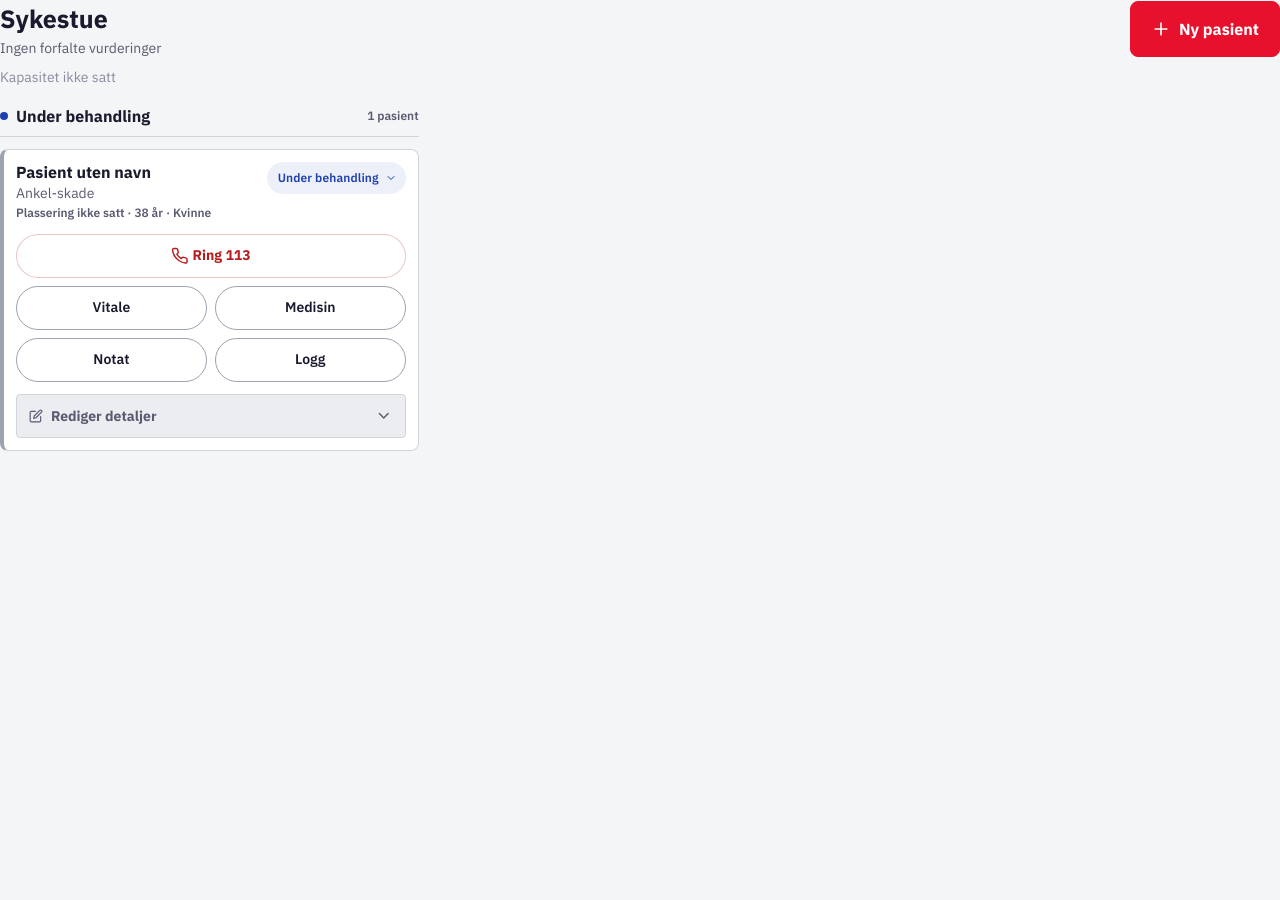
Test: AMK brief modal — structured 113 flow › shows a visible error line when marking AMK notified fails, without hiding that the log itself saved
Expected: the element with test id "patient-section-in_treatment" is shown, x1=0 y1=104 x2=419 y2=451
Click the button with test id "patient-ring-113" at (211, 256), box x1=16 y1=234 x2=406 y2=278
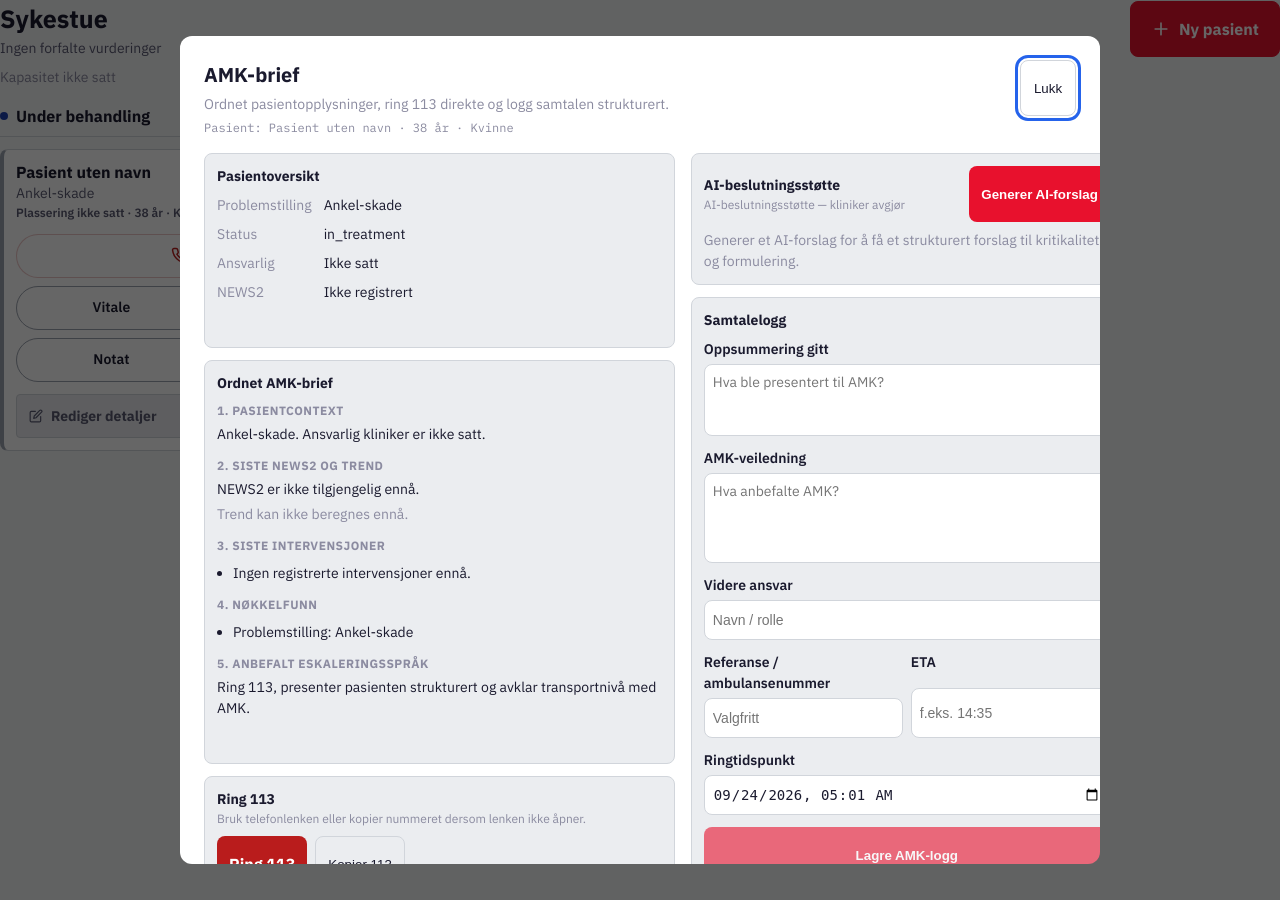
Type "Pasient med brystsmerter" into the text box labelled "Oppsummering gitt" at (907, 400), box x1=704 y1=364 x2=1110 y2=436
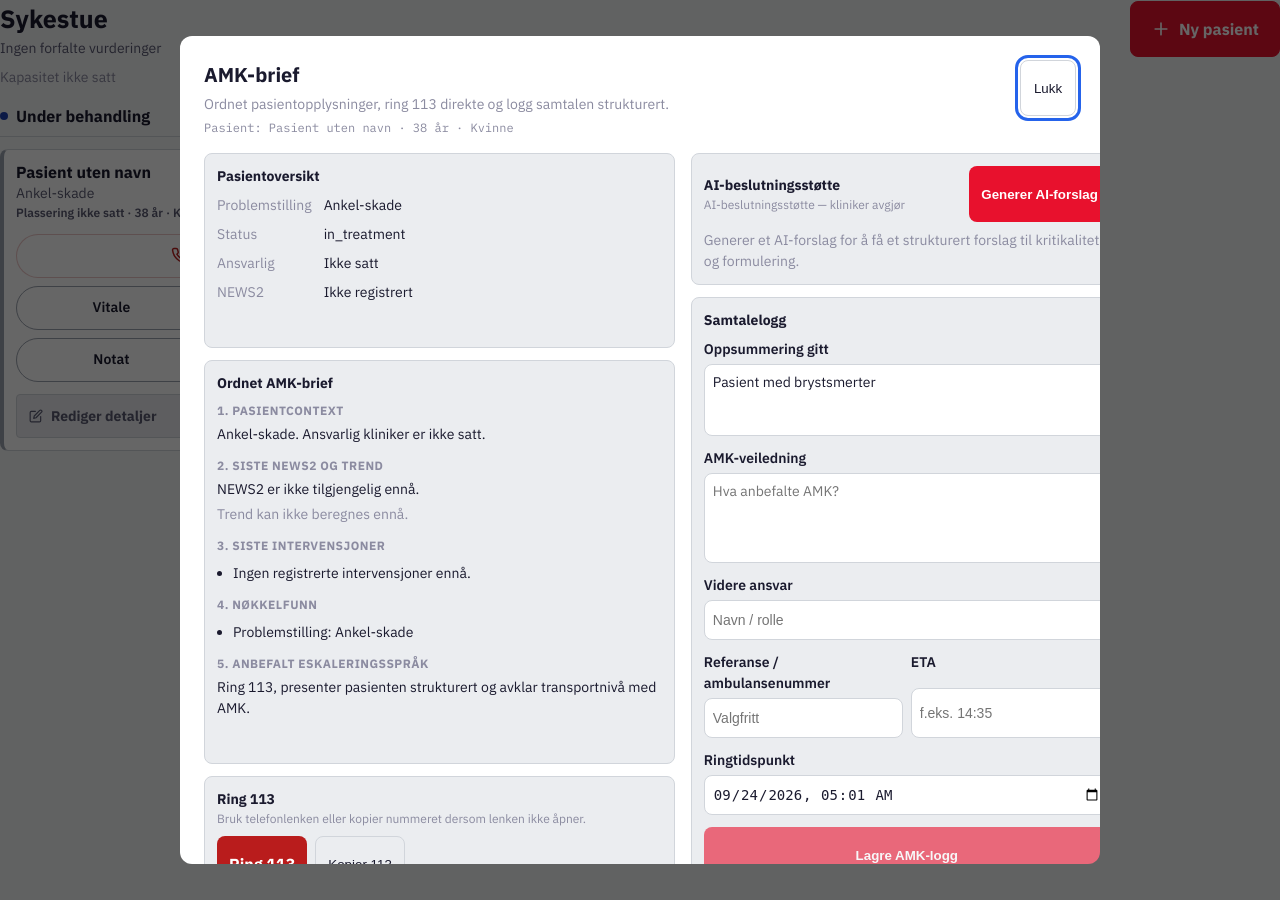
Type "Kontakt AMK" into the text box labelled "AMK-veiledning" at (907, 518), box x1=704 y1=473 x2=1110 y2=563
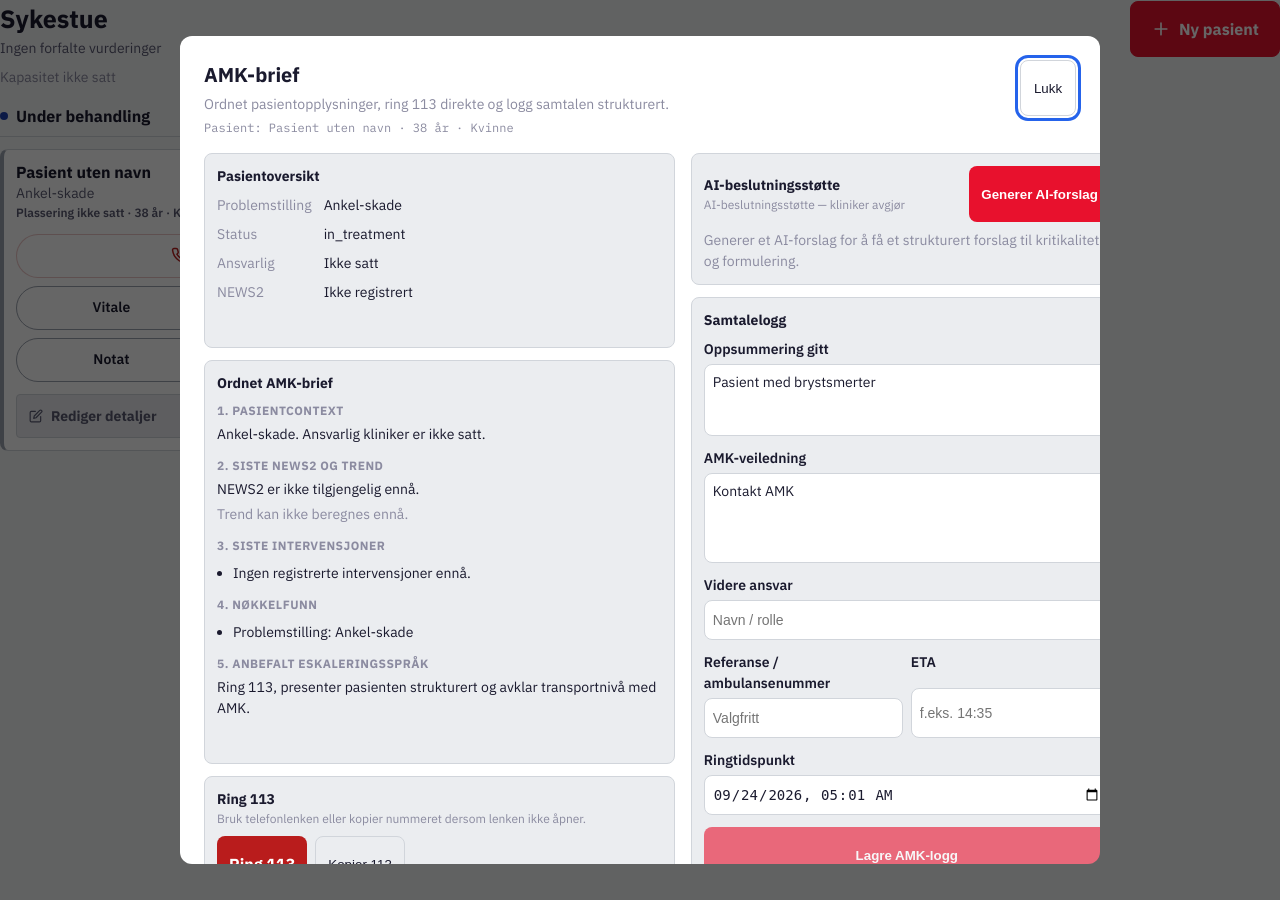
Type "Lege Andersen" into the field labelled "Videre ansvar" at (907, 620), box x1=704 y1=600 x2=1110 y2=640
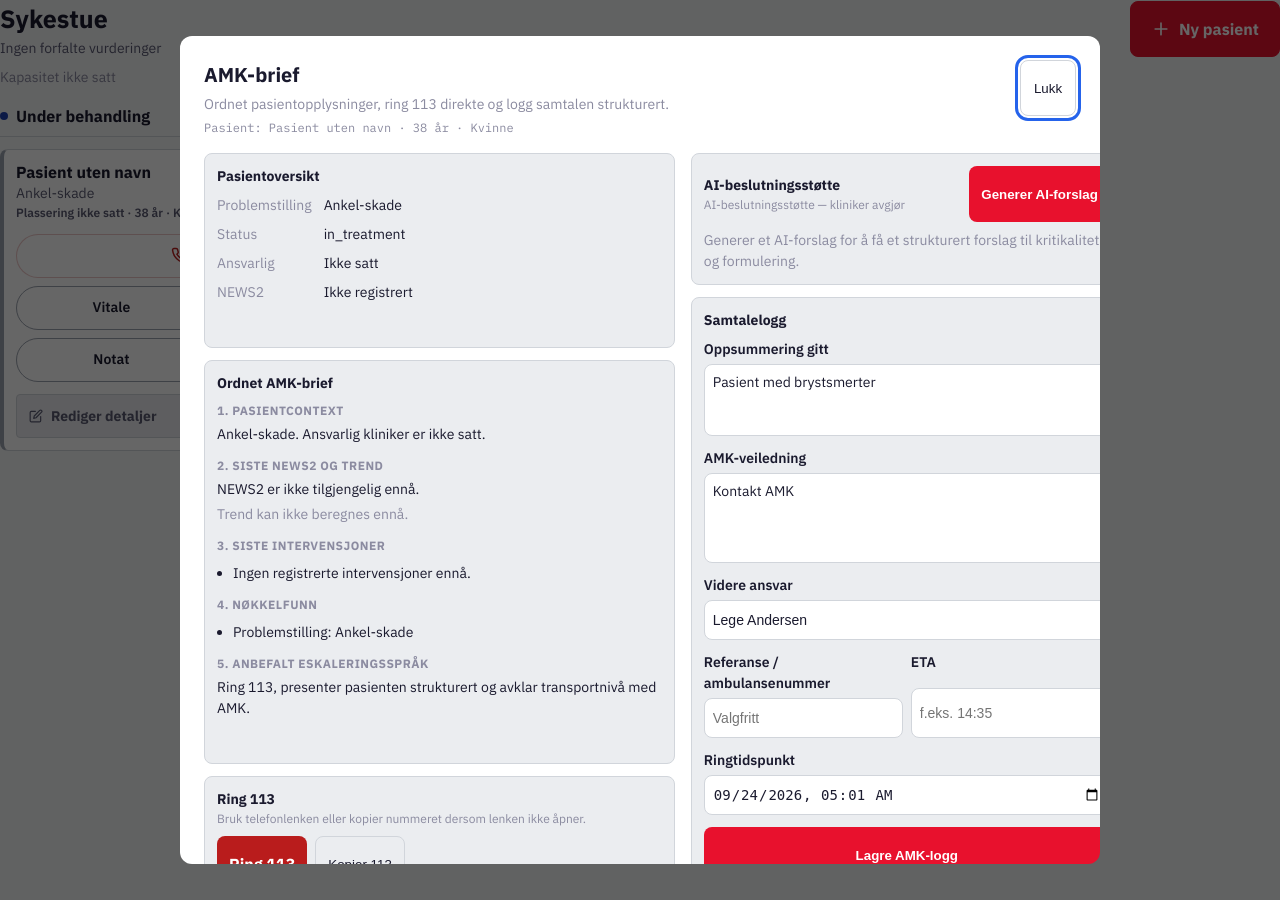
Click the button "Lagre AMK-logg" at (907, 855), box x1=704 y1=827 x2=1110 y2=883
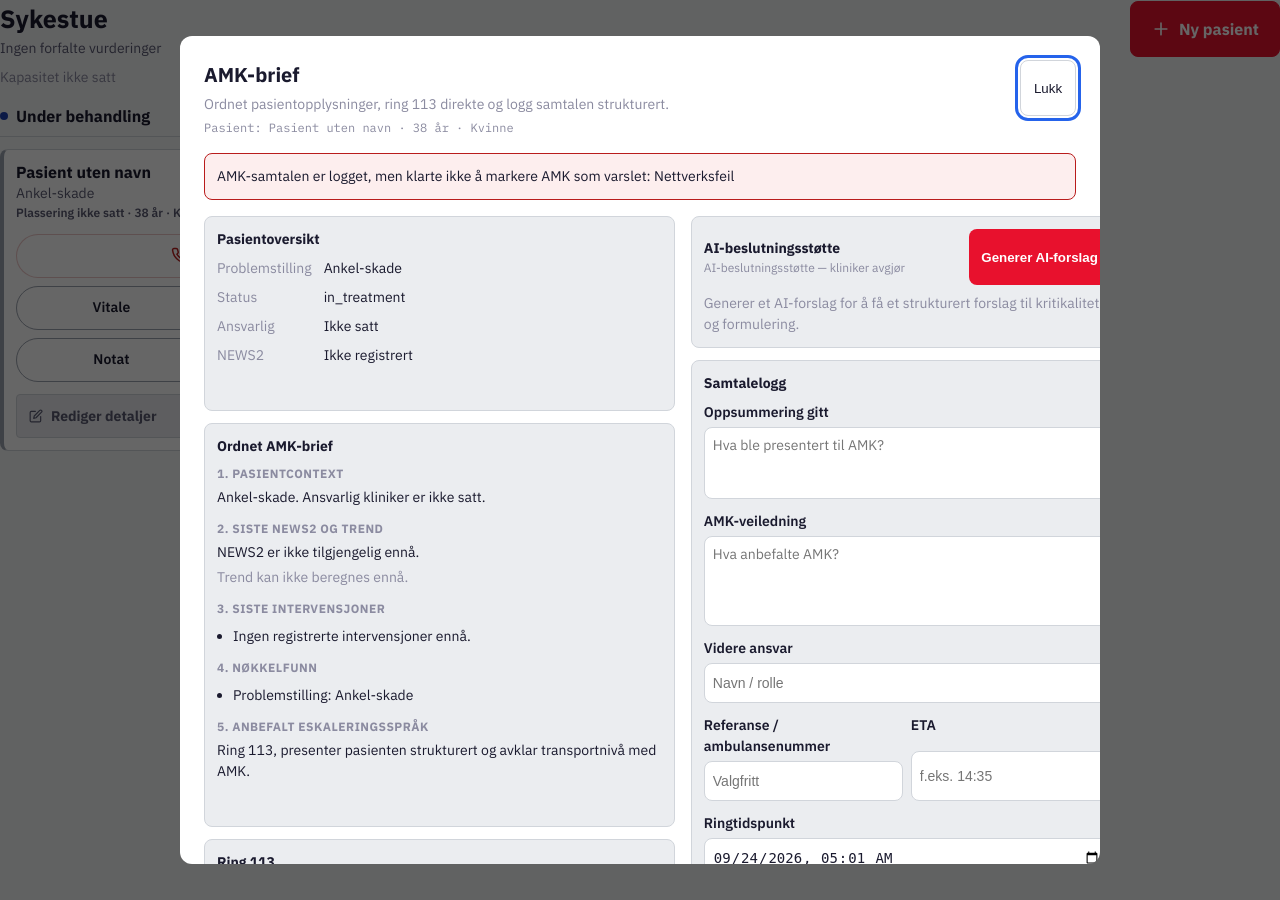
Now the text "AMK-samtalen er logget, men klarte ikke å markere AMK som varslet" is shown, box x1=217 y1=167 x2=734 y2=185
